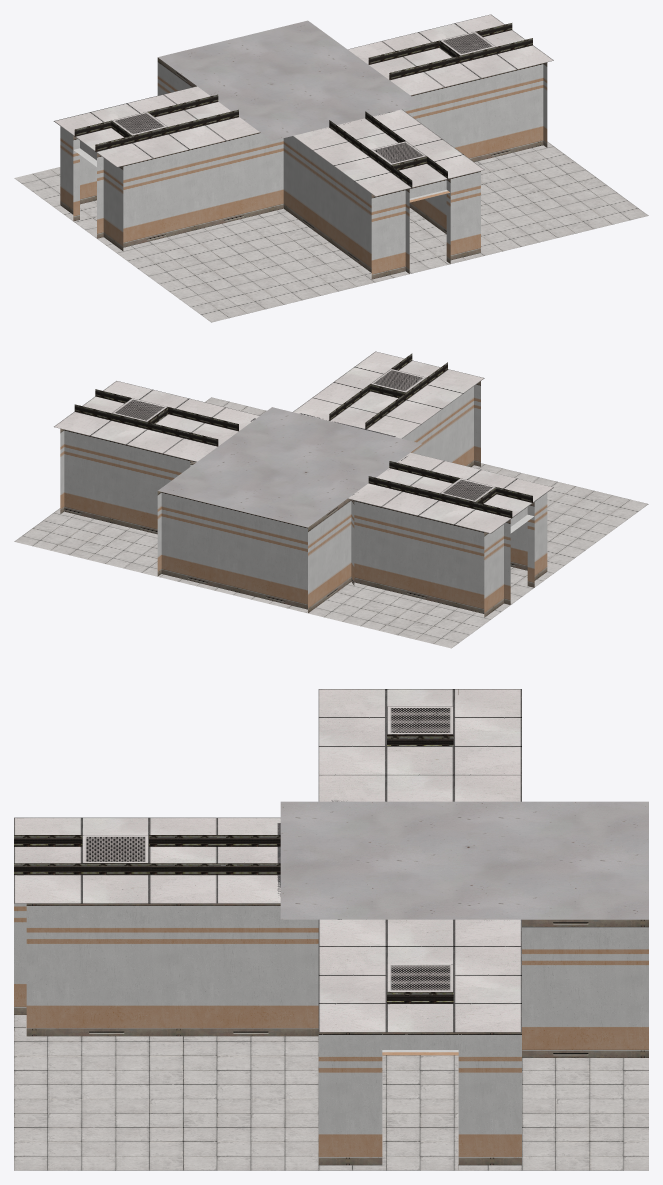
Rendered from RZ_room3.glb.
The picture shows the model from 3 angles, top to bottom: view 1: azimuth 30°, elevation 25°; view 2: azimuth 150°, elevation 25°; view 3: azimuth 270°, elevation 25°; orthographic projection. The views are drawn at different scales.
Visible parts, largest first — view 1: OZ_room3.001; view 2: OZ_room3.001; view 3: OZ_room3.001.
Part boxes in pixels (left/top/right/bottom): OZ_room3.001: left=14, top=14, right=648, bottom=322; OZ_room3.001: left=14, top=351, right=648, bottom=648; OZ_room3.001: left=14, top=689, right=648, bottom=1170.
Bounding box in the file's own units: 20.48 × 4.16 × 16.
Materials: 7 (7 with a texture image).
